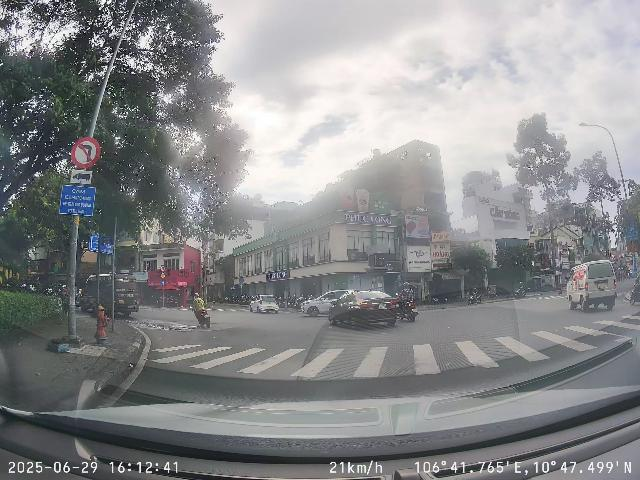123a-cam-re-trai: (70, 136, 101, 168)
